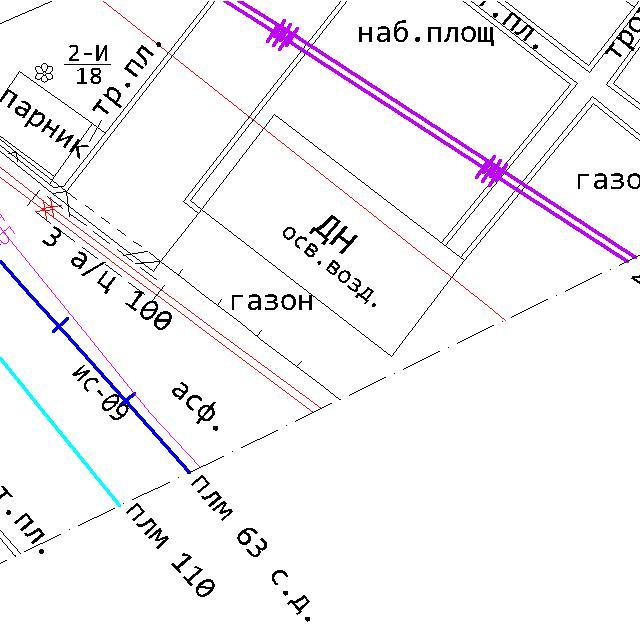asphalt: (171, 380, 220, 433)
bushes: (34, 62, 54, 84)
